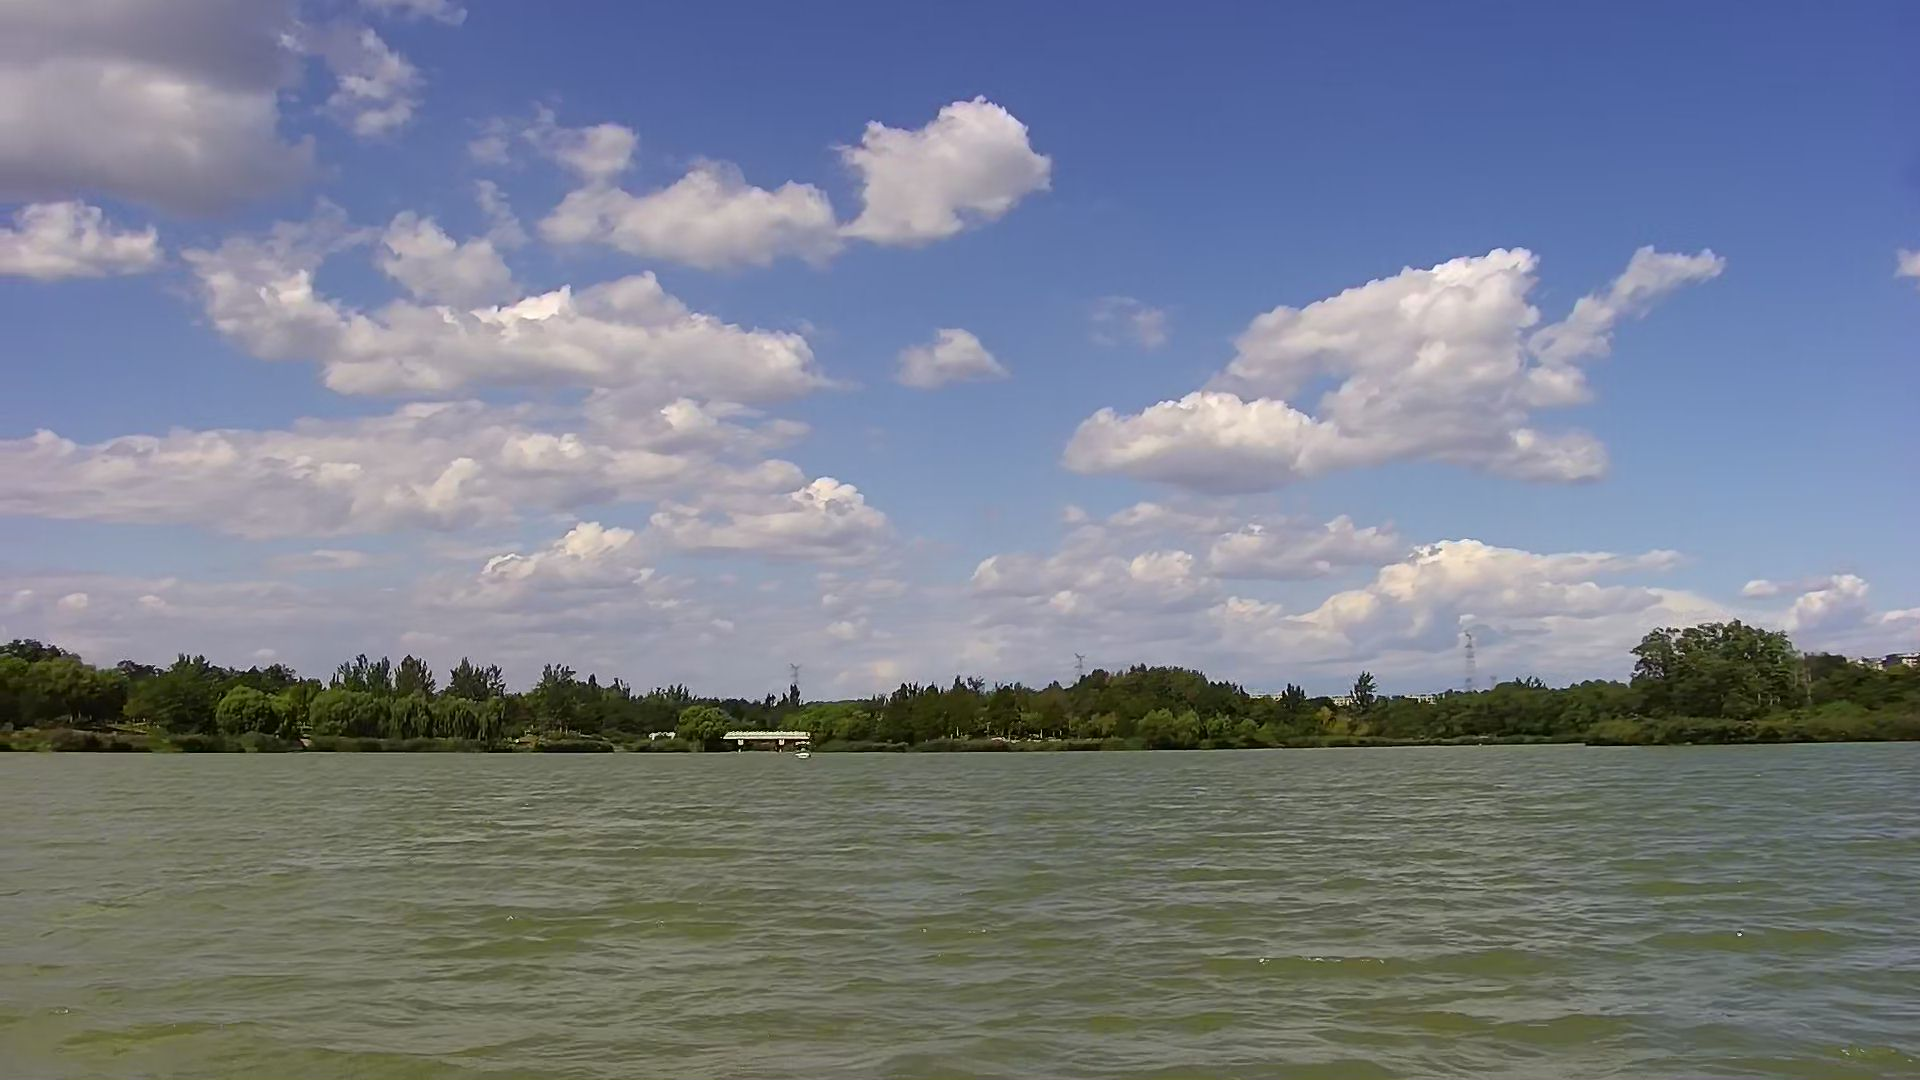bridge: (717, 727, 822, 760)
